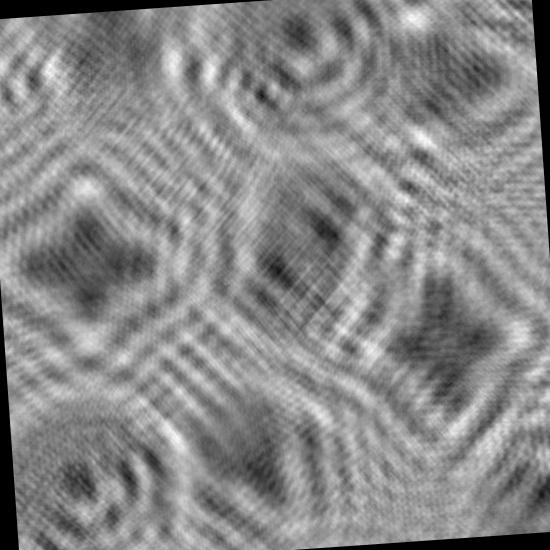U: (173, 0, 420, 190), (5, 349, 209, 550)
V: (141, 333, 379, 550)
X: (164, 114, 426, 399), (314, 213, 550, 490), (0, 138, 231, 389)
Y: (332, 0, 546, 223), (0, 4, 209, 179)
Z: (439, 395, 550, 538), (450, 0, 540, 131)
